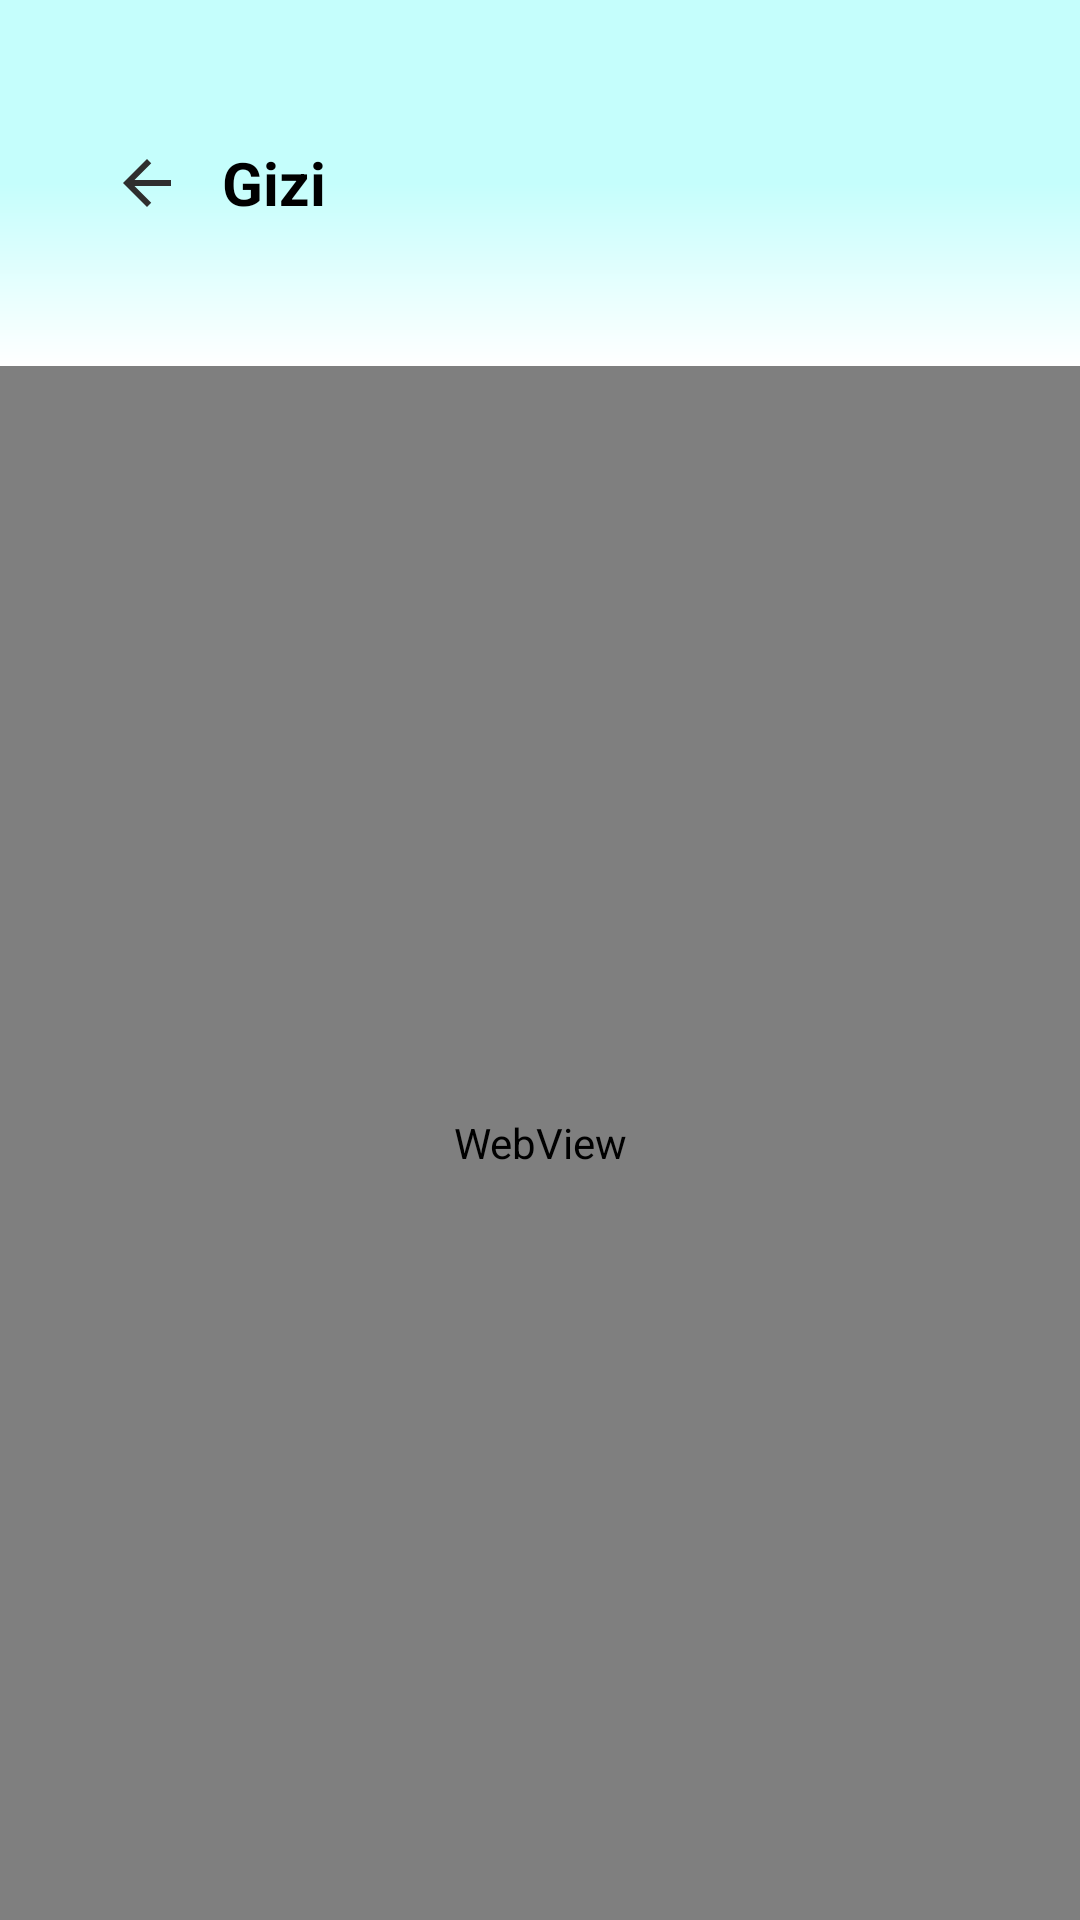

Icon bounding boxes for this 1080px×1920px phone screenshot, format (x1, y1, x2, y2):
arrow back: (123, 159, 171, 207)
